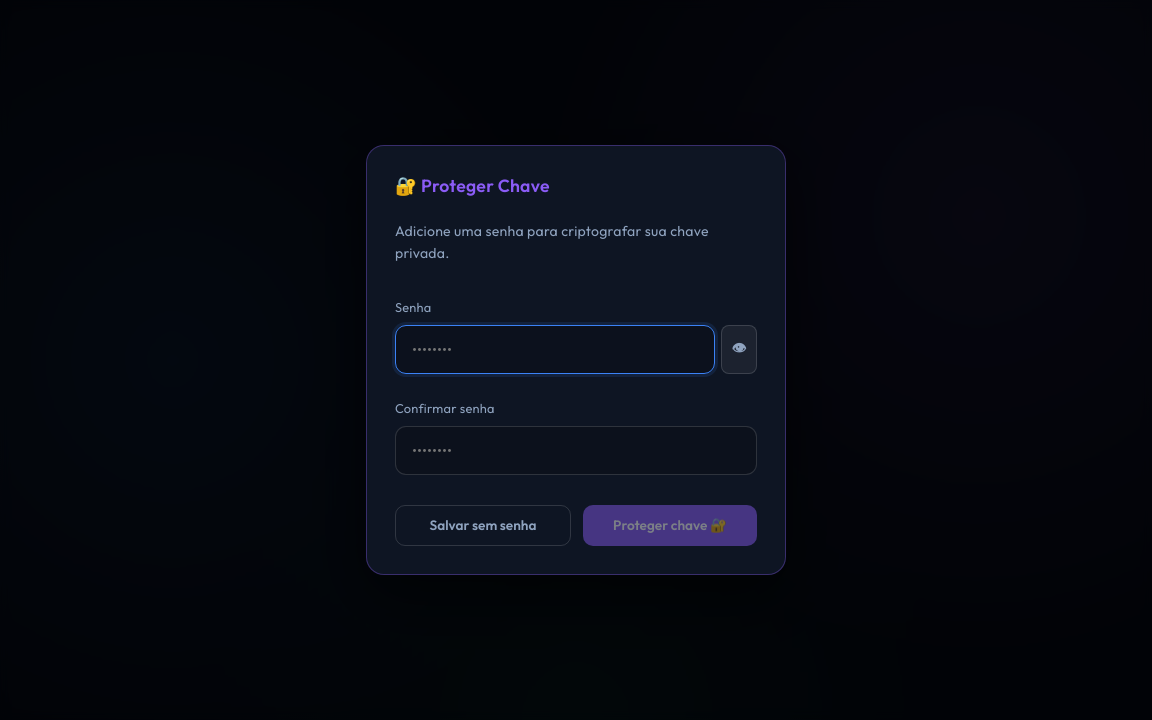
Scenario: KeyProtectionModal — validação › deve limpar o erro ao começar a digitar novamente
This screenshot has width=1152, height=720.
Type "123" into the 1st password field with placeholder "••••••••" at coordinates (555, 350), box left=395, top=325, right=715, bottom=374
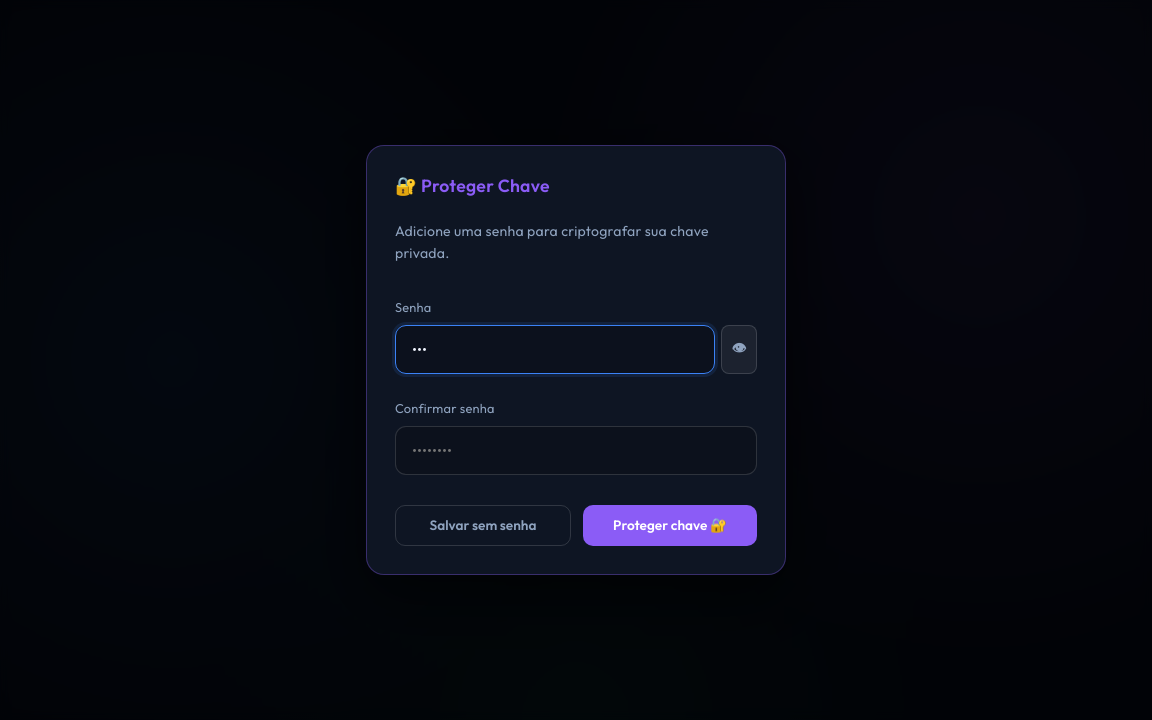
Type "123" into the password field with placeholder "••••••••" at coordinates (576, 450), box left=395, top=426, right=757, bottom=475
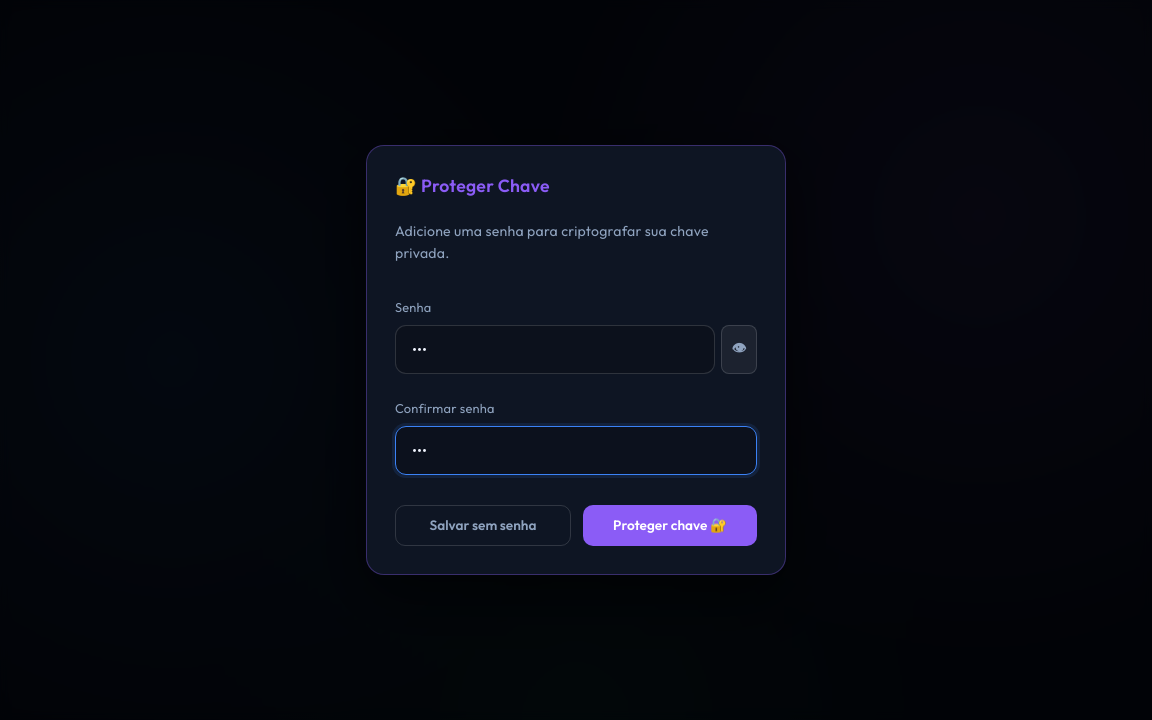
Click the button "Proteger chave 🔐" at coordinates (670, 525), box left=583, top=505, right=757, bottom=546
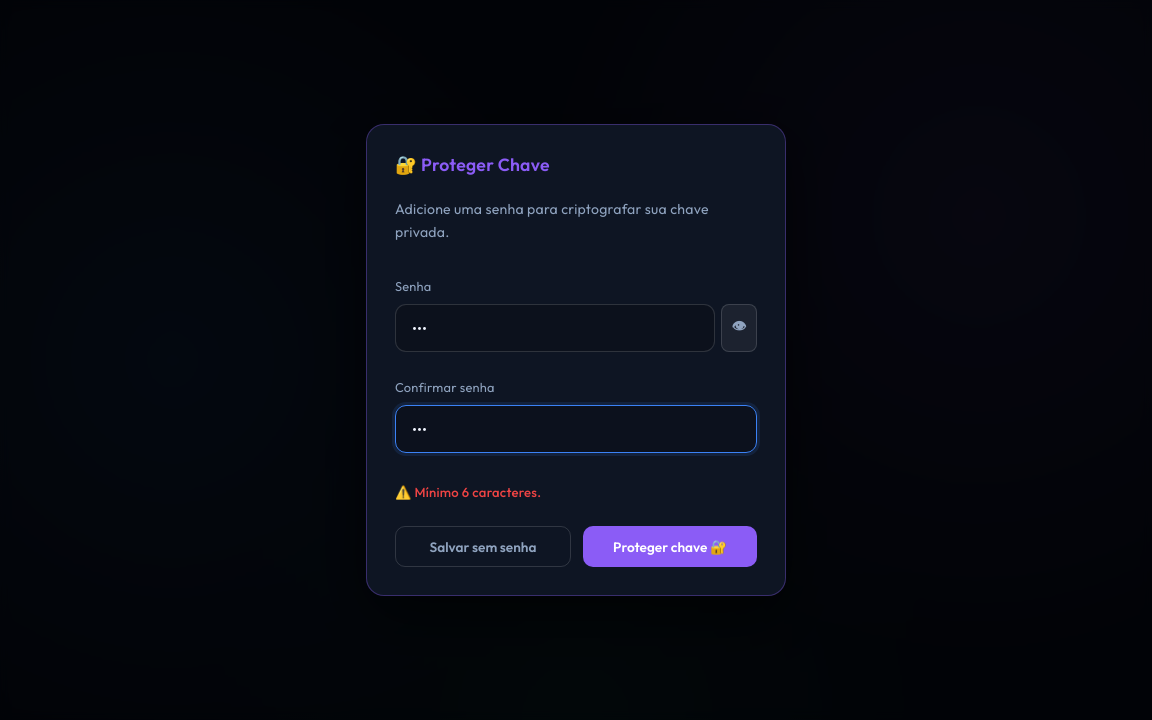
Expected: the text "⚠️ Mínimo 6 caracteres." is shown, left=395, top=484, right=541, bottom=500
Type "456" into the 1st password field with placeholder "••••••••" at coordinates (555, 328), box left=395, top=304, right=715, bottom=352
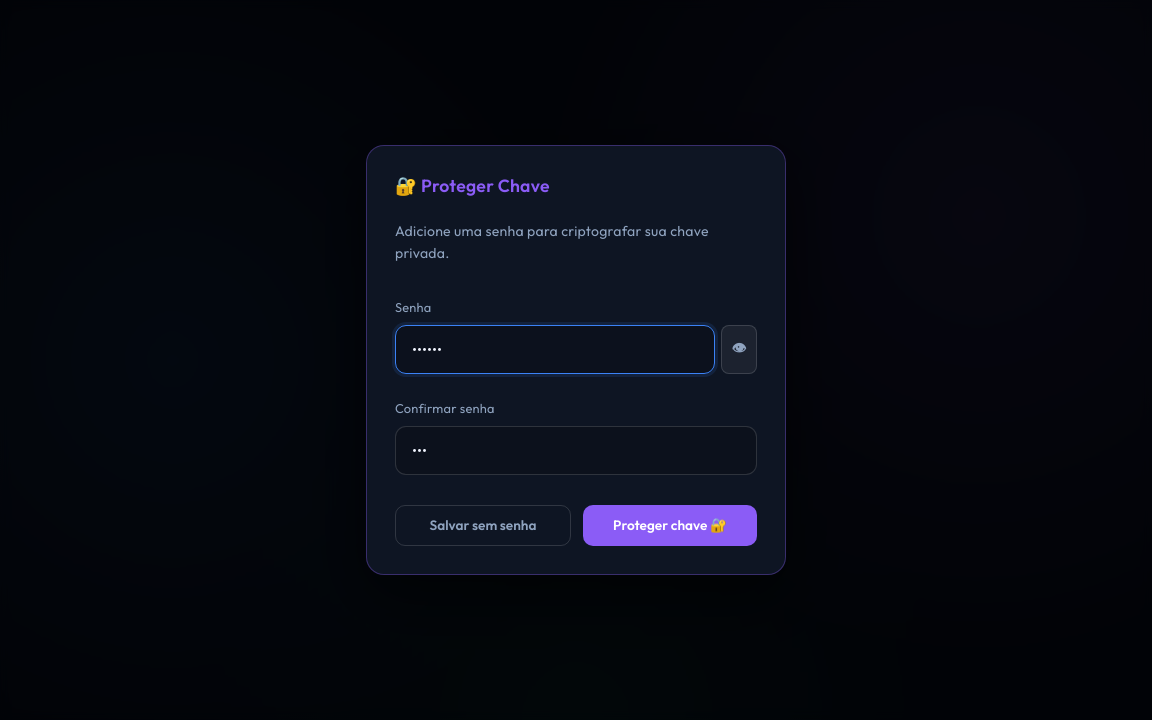
Expected: the text "Mínimo 6 caracteres" is gone
